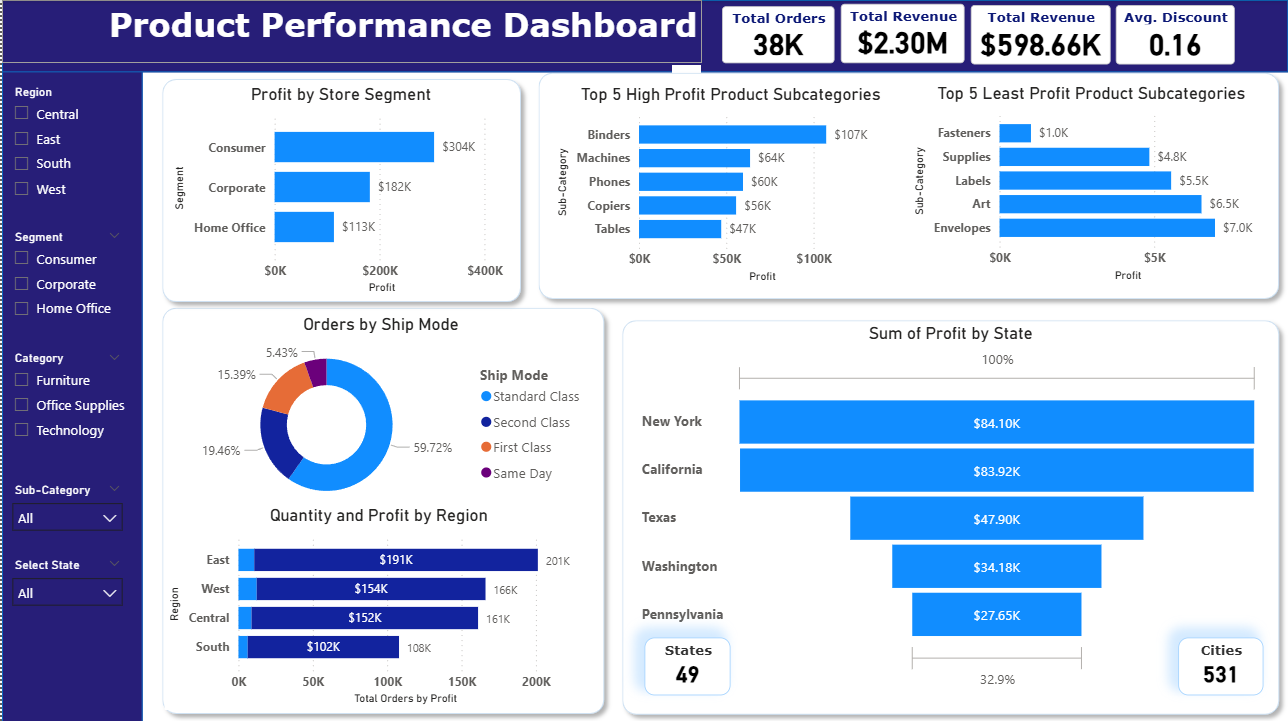

The page's visual inventory and layout, read from the dashboard file:
{"tool":"powerbi","page":{"name":"Dashboard","canvas":[1280,720],"ordinal":0},"visuals":[{"type":"shape","box":[608.3,309.7,671.7,410.5],"z":0},{"type":"shape","box":[0,63,140,657],"z":1000},{"type":"shape","title":"Product Performance ","box":[0,0,1280,72],"z":2000},{"type":"textbox","box":[0,0,697.1,62.9],"z":3000},{"type":"slicer","fields":{"Values":["Superstore_dataset.Category"]},"box":[0,345,130,120],"z":4000},{"type":"slicer","fields":{"Values":["Superstore_dataset.Region"]},"box":[0,79,100,127],"z":5000},{"type":"slicer","fields":{"Values":["Superstore_dataset.Segment"]},"box":[0,224,130,121],"z":6000},{"type":"slicer","fields":{"Values":["Superstore_dataset.Sub-Category"]},"box":[0,475,130,68],"z":7000},{"type":"shape","box":[150,297.8,457.8,422.2],"z":8000},{"type":"donutChart","title":"Orders by Ship Mode","fields":{"Category":["Superstore_dataset.Ship Mode"],"Y":["CountNonNull(Superstore_dataset.Ship Mode)"]},"box":[165.6,312.2,423.3,202.2],"z":9000},{"type":"barChart","title":"Quantity and Profit by Region","fields":{"Category":["Superstore_dataset.Region"],"Y":["Sum(Superstore_dataset.Quantity)","Sum(Superstore_dataset.Profit)"]},"box":[161.7,502.6,426.7,204],"z":10000},{"type":"shape","box":[150,70,375,240],"z":11000},{"type":"shape","box":[525,64,755,243],"z":12000},{"type":"slicer","fields":{"Values":["Superstore_dataset.State"]},"box":[0,550,130,65],"z":13000},{"type":"barChart","title":"Top 5 Least Profit Product Subcategories","fields":{"Category":["Superstore_dataset.Sub-Category"],"Y":["Sum(Superstore_dataset.Profit)"]},"box":[903.1,82.1,362,202.8],"z":14000},{"type":"barChart","title":"Top 5 High Profit Product Subcategories","fields":{"Category":["Superstore_dataset.Sub-Category"],"Y":["Sum(Superstore_dataset.Profit)"]},"box":[547.3,83.3,355.8,202.8],"z":15000},{"type":"clusteredBarChart","title":"Profit by Store Segment","fields":{"Category":["Superstore_dataset.Segment","Superstore_dataset.Profit"],"Y":["Sum(Superstore_dataset.Profit)"]},"box":[166.3,83.2,341.6,214.2],"z":16000},{"type":"card","title":"Total Orders","fields":{"Values":["Sum(Superstore_dataset.Quantity)"]},"box":[717.1,5.9,111.8,57.1],"z":17000},{"type":"card","title":"Total Revenue","fields":{"Values":["Sum(Superstore_dataset.Sales)"]},"box":[834.7,4.1,123.5,58.8],"z":18000},{"type":"card","title":"Total Revenue","fields":{"Values":["Sum(Superstore_dataset.Profit)"]},"box":[964.1,4.7,138.8,59.4],"z":19000},{"type":"funnel","fields":{"Y":["Sum(Superstore_dataset.Profit)"],"Category":["Superstore_dataset.State"]},"box":[631.9,320.9,624.5,370.7],"z":19500},{"type":"card","title":"Avg. Discount","fields":{"Values":["Avg(Superstore_dataset.Discount)"]},"box":[1108.8,4.7,118.2,59.4],"z":20000},{"type":"card","title":"States","fields":{"Values":["Count(Superstore_dataset.State)"]},"box":[639.4,634.4,85.8,57.2],"z":21000},{"type":"card","title":"Cities","fields":{"Values":["Count(Superstore_dataset.City)"]},"box":[1170.6,634.4,84.6,57.2],"z":23000}]}

Visuals, with their boxes in screenshot pixels (x1, y1, x2, y2), scaled from the page's 1280x720 canvas onto the 1288x721 screenshot:
shape: l=612, t=310, r=1287, b=720
shape: l=0, t=63, r=141, b=720
"Product Performance " shape: l=0, t=0, r=1287, b=72
textbox: l=0, t=0, r=701, b=63
slicer - Superstore_dataset.Category: l=0, t=345, r=131, b=466
slicer - Superstore_dataset.Region: l=0, t=79, r=101, b=206
slicer - Superstore_dataset.Segment: l=0, t=224, r=131, b=345
slicer - Superstore_dataset.Sub-Category: l=0, t=476, r=131, b=544
shape: l=151, t=298, r=612, b=720
"Orders by Ship Mode" donutChart: l=167, t=313, r=593, b=515
"Quantity and Profit by Region" barChart: l=163, t=503, r=592, b=708
shape: l=151, t=70, r=528, b=310
shape: l=528, t=64, r=1287, b=307
slicer - Superstore_dataset.State: l=0, t=551, r=131, b=616
"Top 5 Least Profit Product Subcategories" barChart: l=909, t=82, r=1273, b=285
"Top 5 High Profit Product Subcategories" barChart: l=551, t=83, r=909, b=286
"Profit by Store Segment" clusteredBarChart: l=167, t=83, r=511, b=298
"Total Orders" card: l=722, t=6, r=834, b=63
"Total Revenue" card: l=840, t=4, r=964, b=63
"Total Revenue" card: l=970, t=5, r=1110, b=64
funnel - Sum(Superstore_dataset.Profit) x Superstore_dataset.State: l=636, t=321, r=1264, b=693
"Avg. Discount" card: l=1116, t=5, r=1235, b=64
"States" card: l=643, t=635, r=730, b=693
"Cities" card: l=1178, t=635, r=1263, b=693
